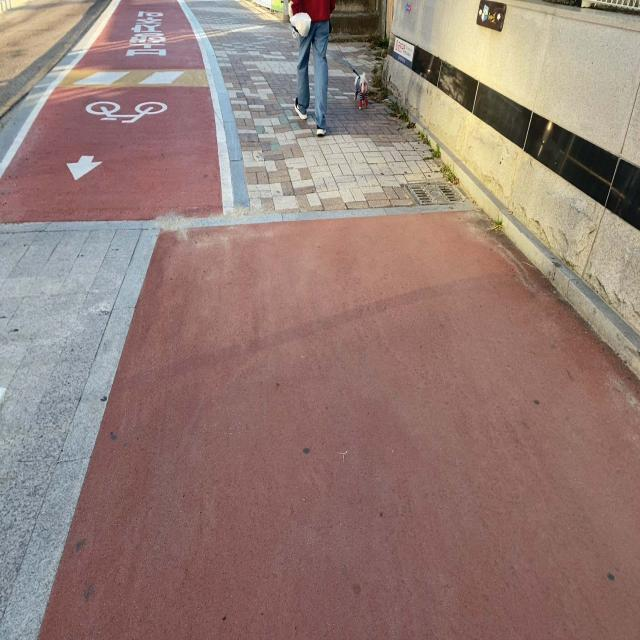Leashed_Dog: (317, 23, 369, 110)
